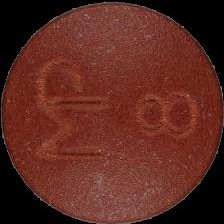50090-0035: (0, 0, 224, 224)
